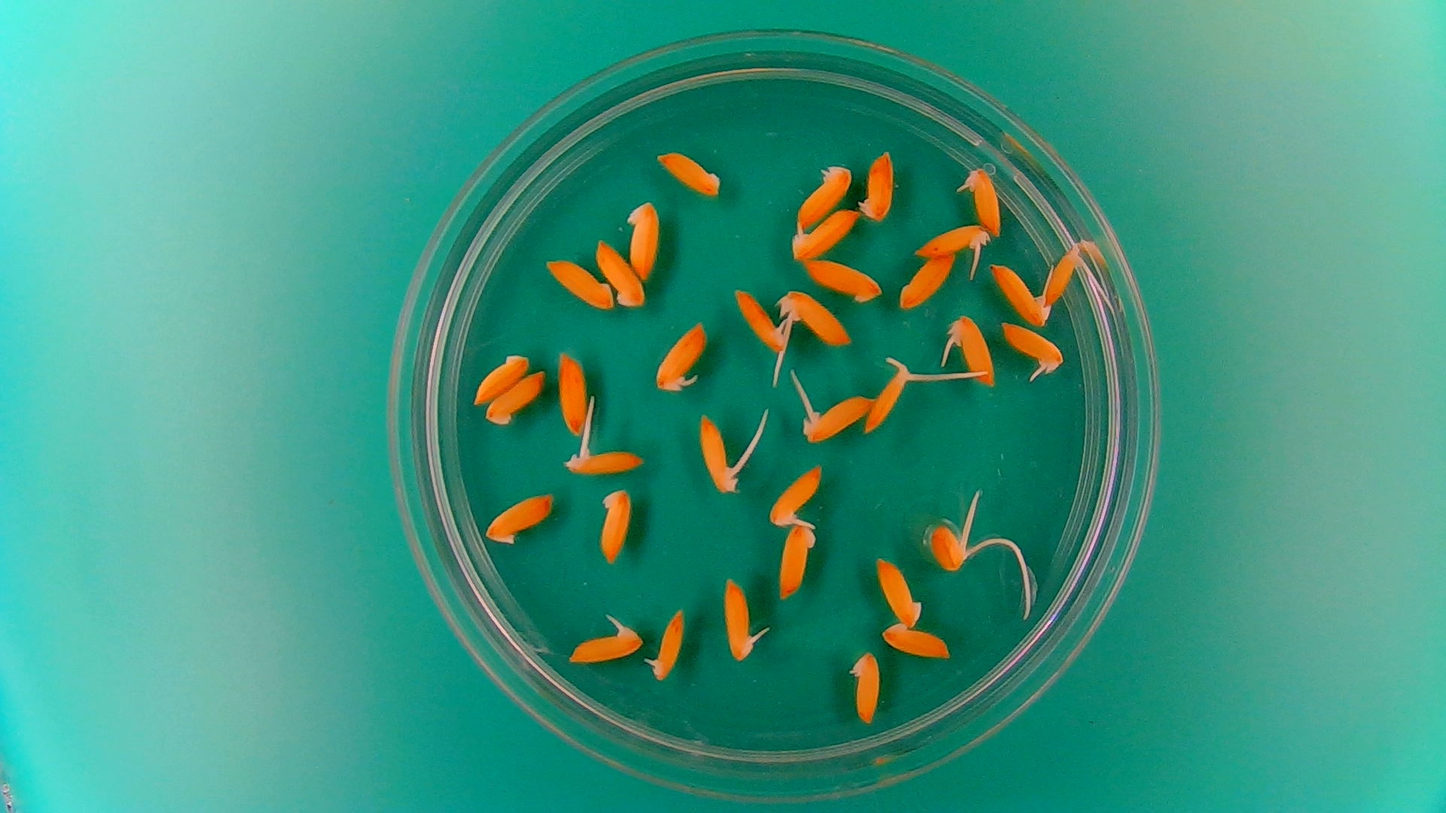no: (480, 487, 557, 547), (794, 160, 854, 231), (593, 235, 649, 310), (543, 257, 617, 312), (802, 255, 886, 303), (873, 553, 925, 629), (652, 148, 727, 200), (486, 368, 547, 428), (624, 196, 664, 282), (472, 347, 530, 406), (898, 250, 956, 308), (555, 346, 592, 435), (880, 620, 959, 661), (774, 523, 817, 596), (856, 146, 896, 223), (596, 483, 633, 565), (846, 647, 883, 725)
yes: (767, 460, 837, 541), (775, 286, 854, 349), (694, 410, 751, 496), (986, 260, 1054, 324), (798, 391, 874, 446), (565, 613, 645, 664), (731, 285, 789, 355), (863, 352, 913, 432), (657, 316, 709, 392), (999, 321, 1067, 379), (947, 311, 997, 388), (719, 572, 762, 661), (789, 206, 861, 259), (561, 437, 649, 480), (909, 218, 991, 263), (644, 604, 688, 685), (957, 163, 1005, 237), (1045, 236, 1094, 306), (925, 523, 969, 574)
